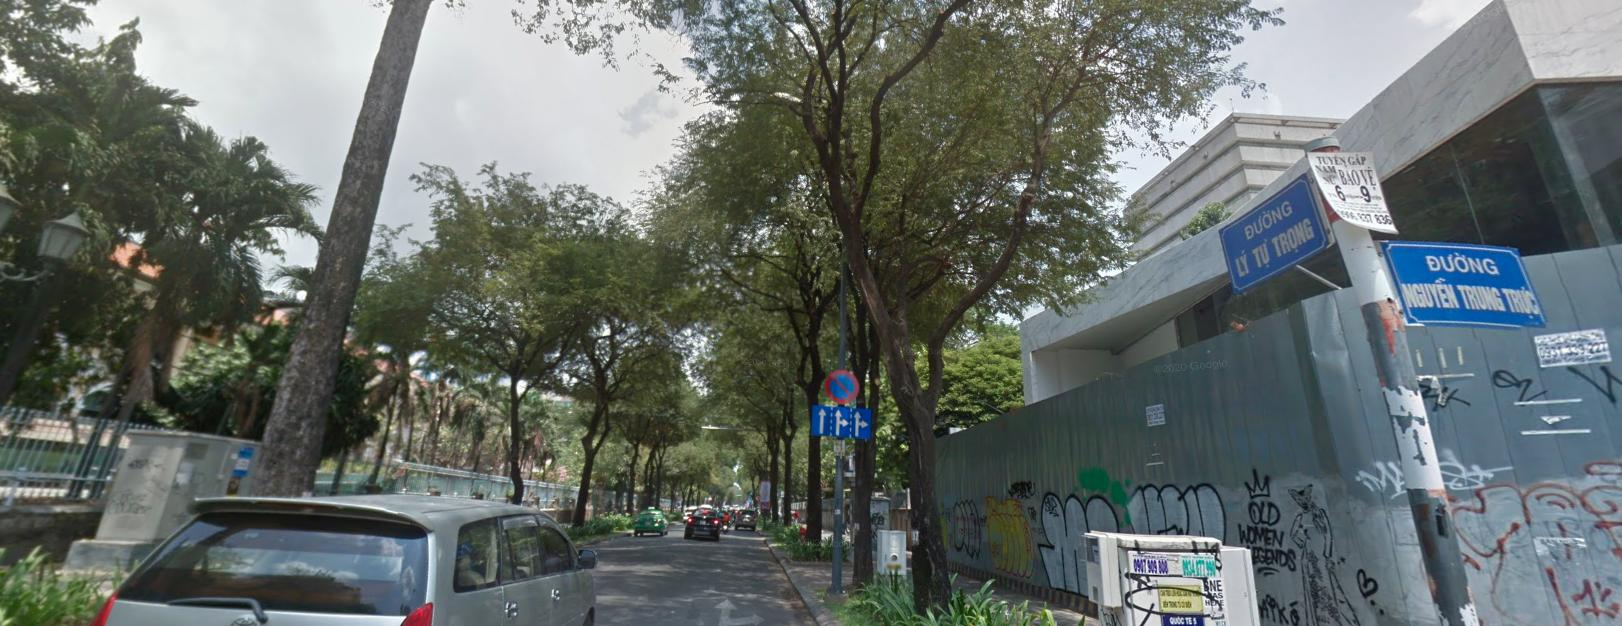Cam dung va do: (827, 368, 860, 404)
